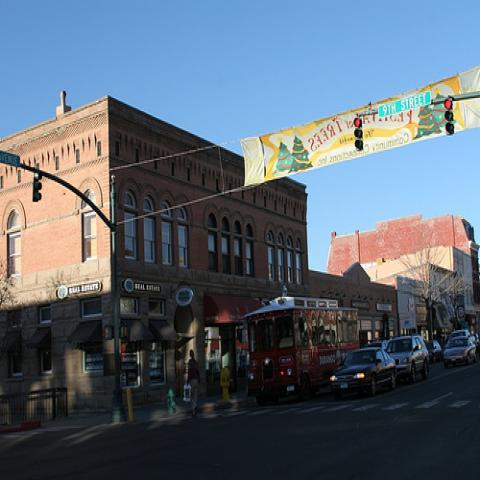bus: (244, 286, 360, 405)
car: (329, 347, 397, 399), (385, 334, 430, 379), (444, 336, 477, 368), (423, 339, 446, 364), (448, 329, 476, 342), (362, 338, 389, 350)
